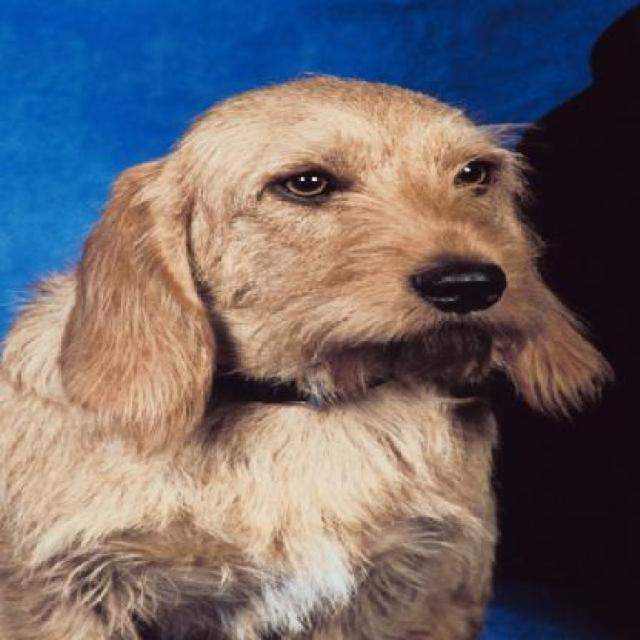animals: (2, 67, 562, 640)
